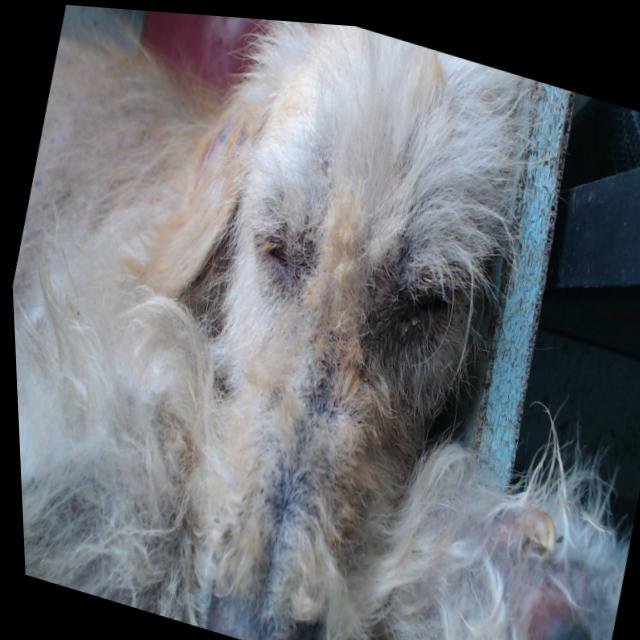demodicosis: (259, 377, 349, 586), (196, 100, 241, 173)
